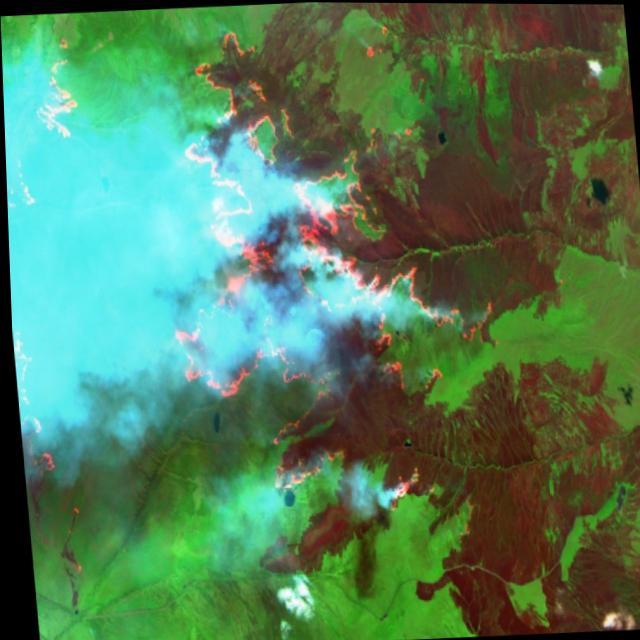fire: (129, 1, 516, 565), (0, 12, 124, 585)
